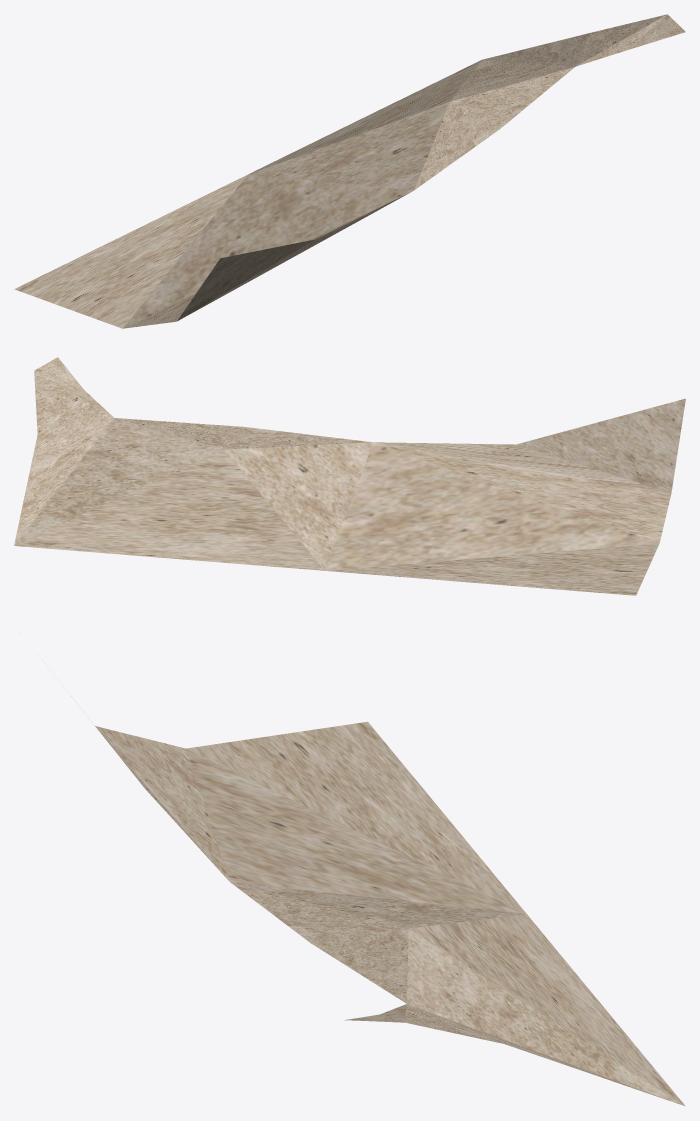
File: lodseabed144.obj
3 renders of one model, top to bottom at view 1: azimuth 30°, elevation 25°; view 2: azimuth 150°, elevation 25°; view 3: azimuth 270°, elevation 25°, orthographic. The views are drawn at different scales.
Visible parts, largest first — view 1: lodseabed144; view 2: lodseabed144; view 3: lodseabed144.
Part boxes in pixels (x1,y1,x2,y2): lodseabed144: (14, 14, 685, 328); lodseabed144: (14, 357, 685, 595); lodseabed144: (71, 696, 685, 1106).
Size of the model in its own units: 266 by 41.43 by 172.
